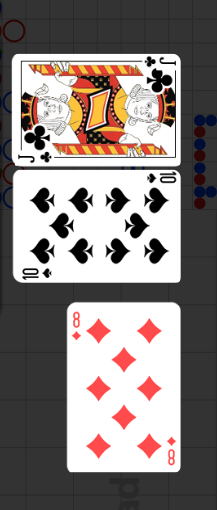10S: (21, 267, 54, 281)
8D: (165, 434, 177, 466)
JC: (142, 54, 177, 69)
